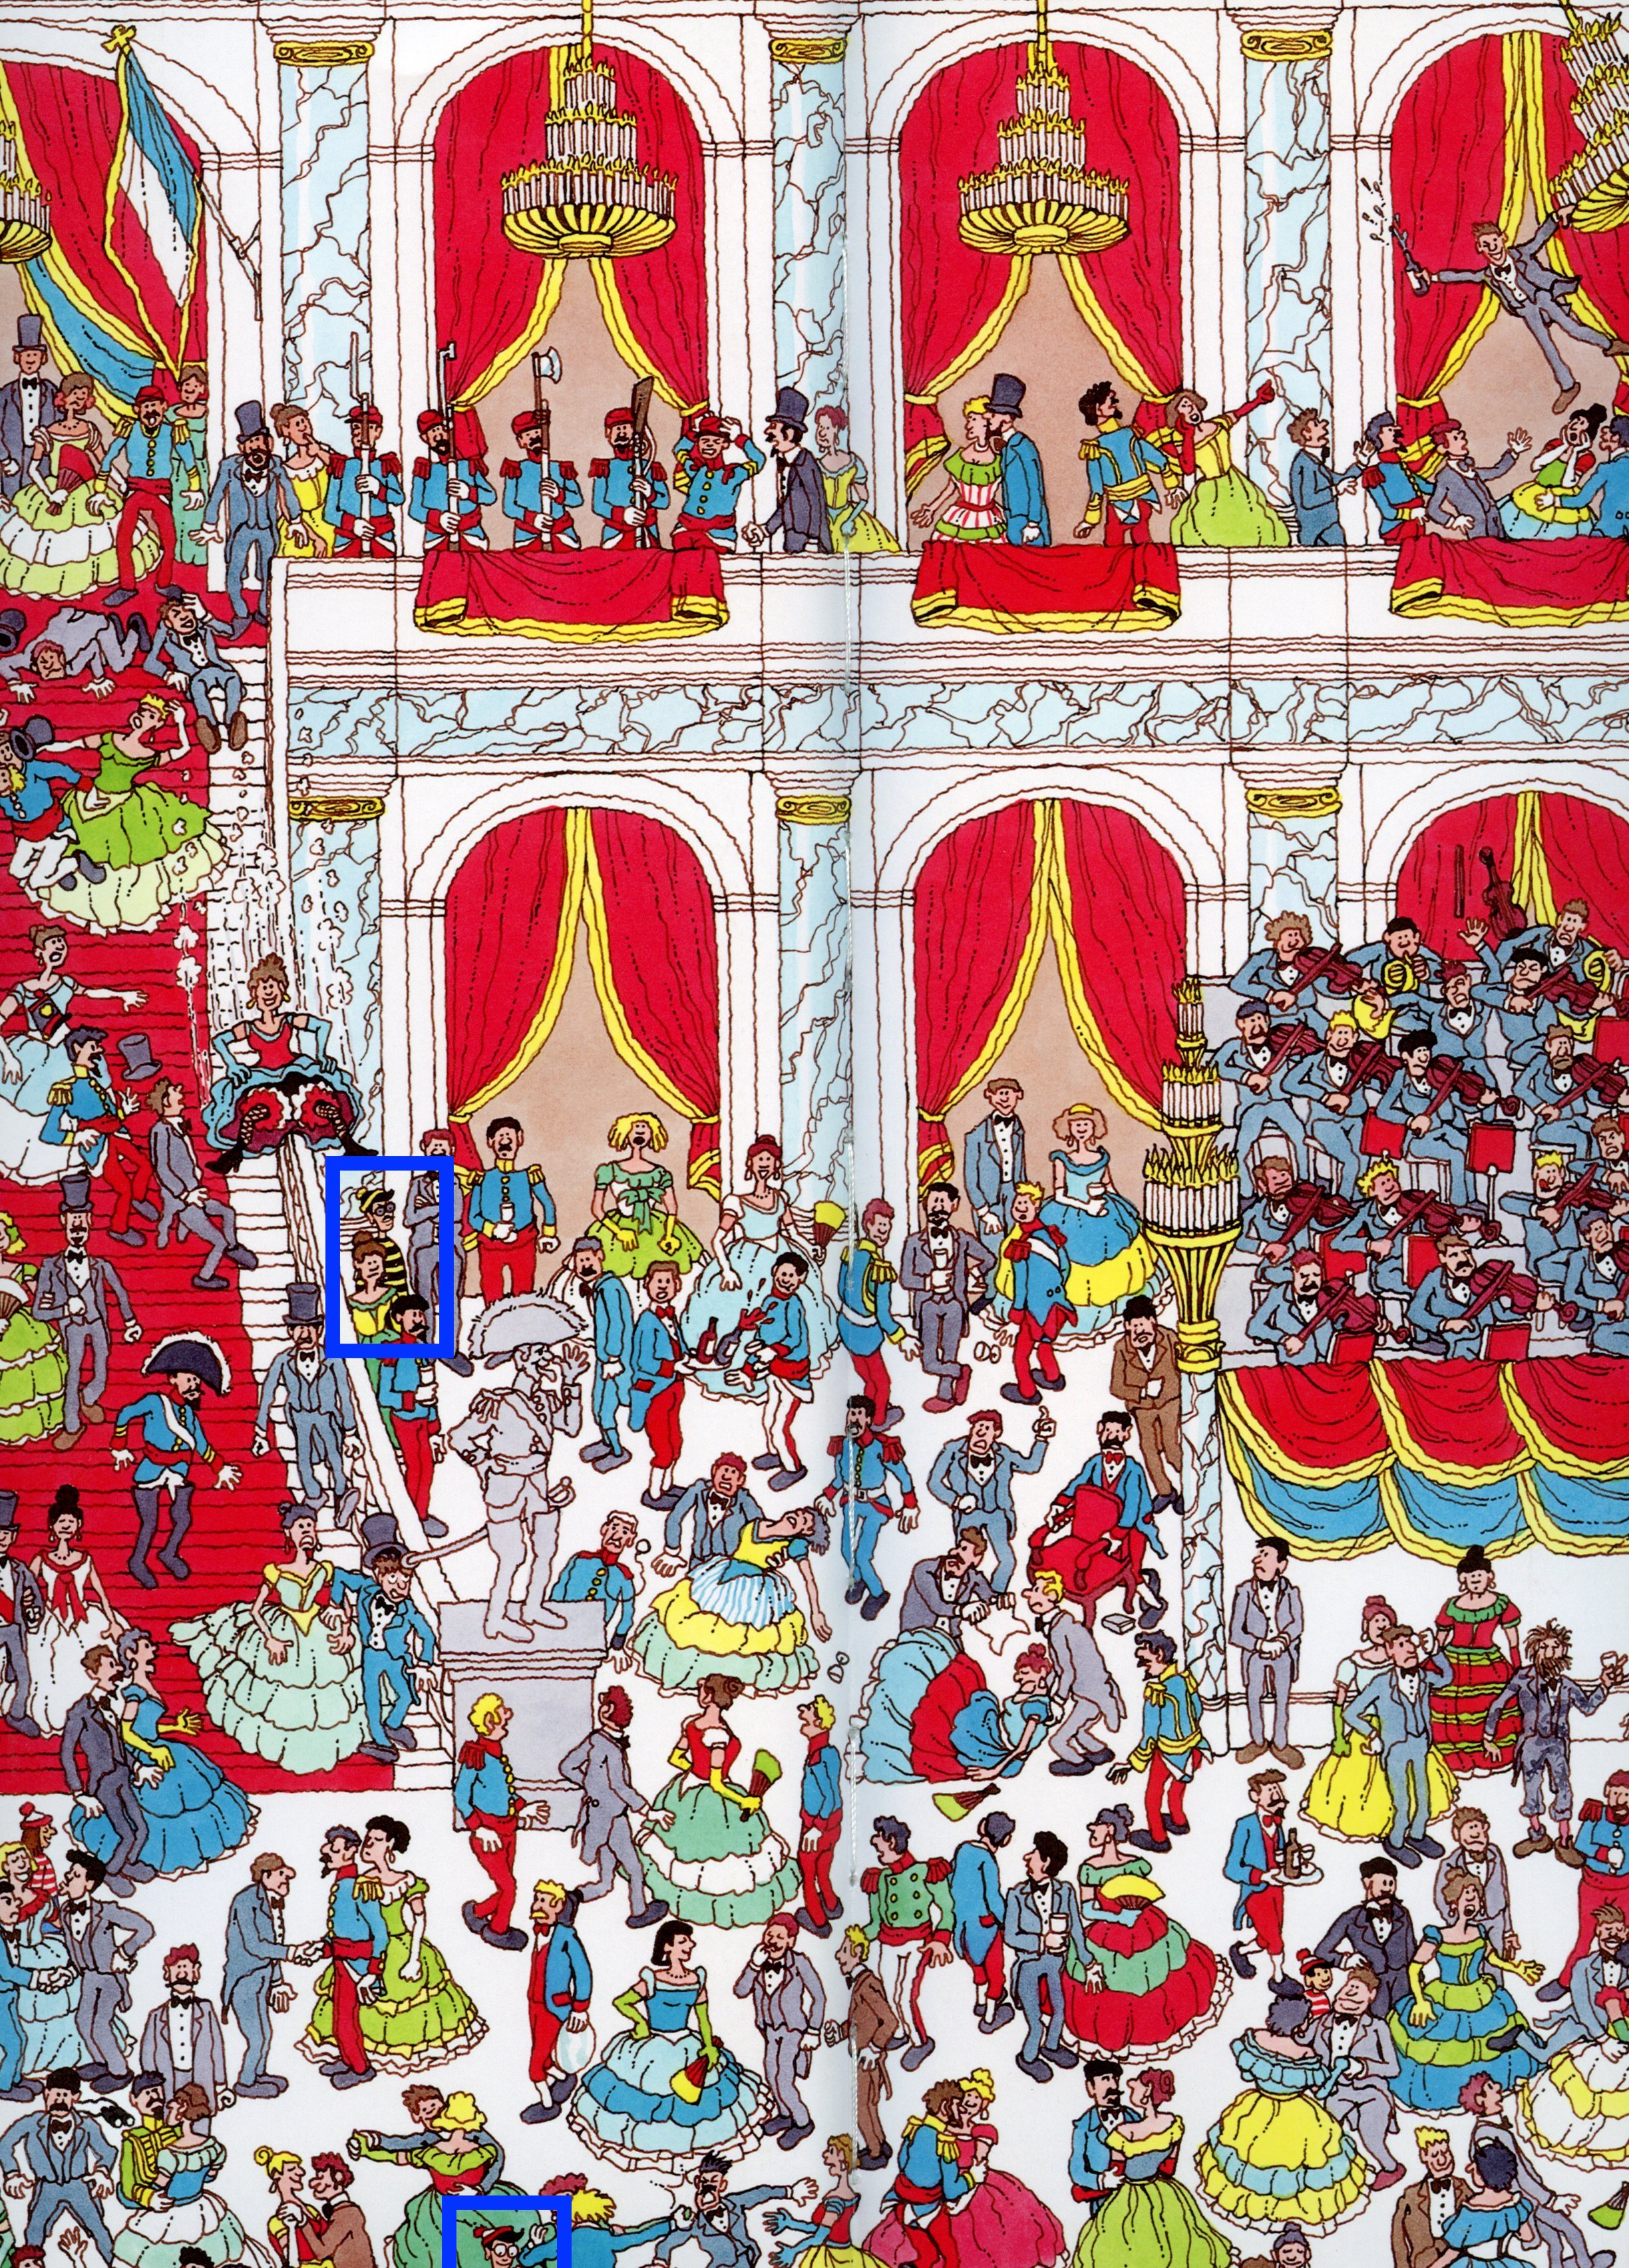odlaw: (338, 1164, 421, 1321)
waldo: (460, 2205, 551, 2268)
